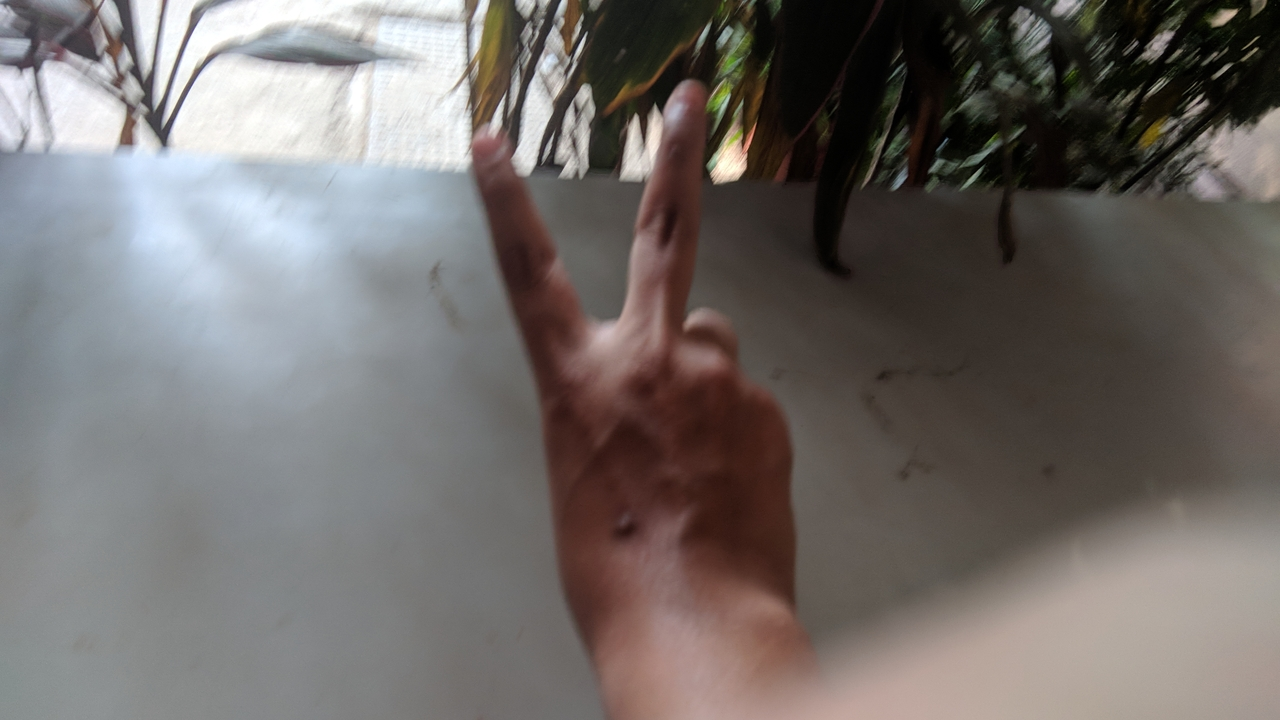fingertip: (654, 76, 712, 130), (458, 124, 511, 169)
